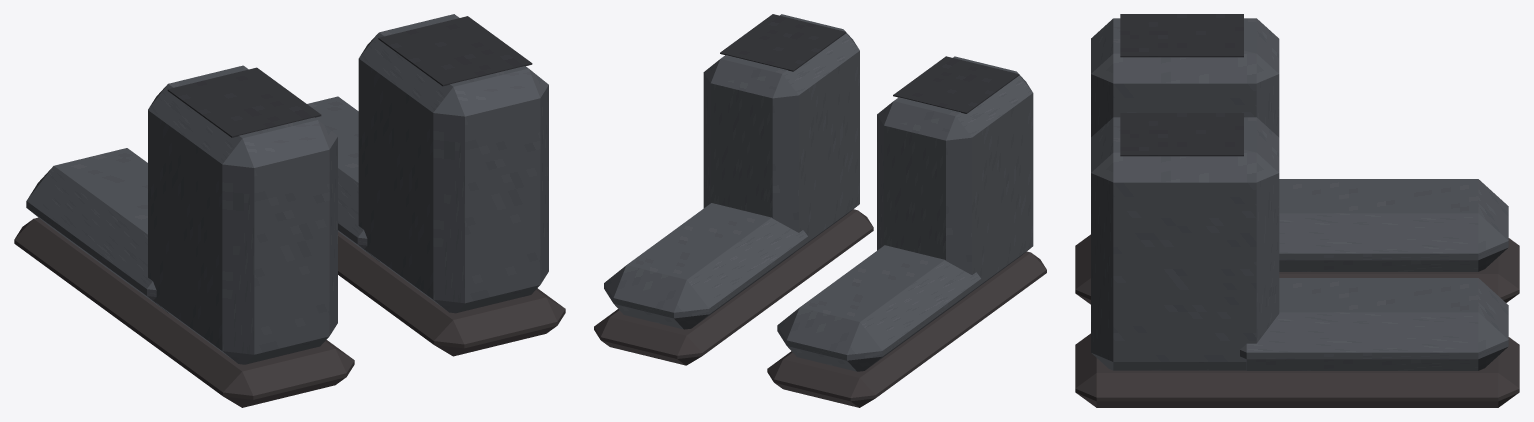
Rendered from boots_rubber.glb.
The picture shows the model from 3 angles, left to right: view 1: azimuth 30°, elevation 25°; view 2: azimuth 150°, elevation 25°; view 3: azimuth 270°, elevation 25°; orthographic projection. The views are drawn at different scales.
Parts seen in each view (by area): view 1: block_shaft (×2), block_shaped sole (×2), block_vamp and toe (×2), block_opening (×2); view 2: block_shaft (×2), block_vamp and toe (×2), block_shaped sole (×2), block_opening (×2); view 3: block_shaft (×2), block_vamp and toe (×2), block_shaped sole (×2), block_opening (×2).
Part boxes in pixels (x1,y1,x2,y2): block_shaft (×2): (148,14,548,364); block_shaped sole (×2): (14,217,565,407); block_vamp and toe (×2): (26,96,379,313); block_opening (×2): (167,16,532,137); block_shaft (×2): (703,14,1033,291); block_vamp and toe (×2): (604,203,981,371); block_shaped sole (×2): (594,209,1046,407); block_opening (×2): (720,14,1019,113); block_shaft (×2): (1091,18,1279,370); block_vamp and toe (×2): (1240,179,1508,370); block_shaped sole (×2): (1075,234,1519,407); block_opening (×2): (1120,14,1243,156).
Size of the model in its own units: 0.2575 by 0.1882 by 0.3006.
1 material, 1 textured.
